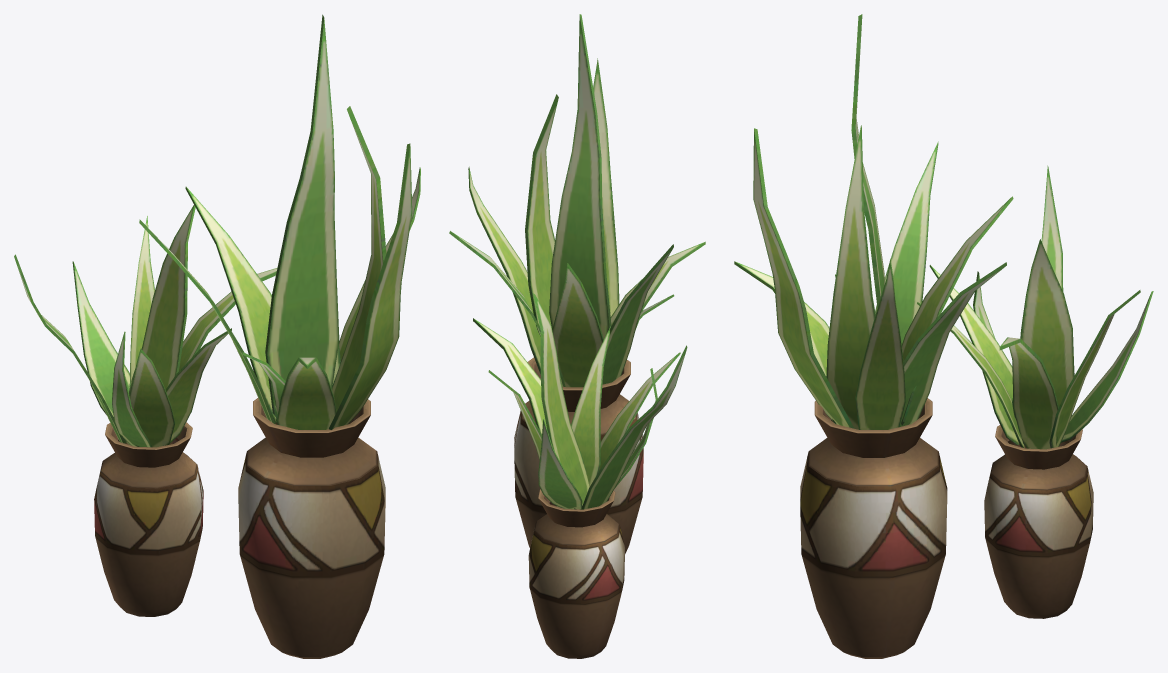
The model's file is my_gamedevdept_01_plantpot_01.glb.
The picture shows the model from 3 angles, left to right: view 1: azimuth 30°, elevation 25°; view 2: azimuth 150°, elevation 25°; view 3: azimuth 270°, elevation 25°; orthographic projection. The views are drawn at different scales.
Parts seen in each view (by area): view 1: my_gamedevdept_01_plantpot_01; view 2: my_gamedevdept_01_plantpot_01; view 3: my_gamedevdept_01_plantpot_01.
Part boxes in pixels (x1,y1,x2,y2): my_gamedevdept_01_plantpot_01: [14, 14, 420, 658]; my_gamedevdept_01_plantpot_01: [449, 14, 705, 658]; my_gamedevdept_01_plantpot_01: [734, 14, 1153, 658].
Bounding box in the file's own units: 0.00457 × 0.00845 × 0.00506.
Materials: 1 (1 with a texture image).
